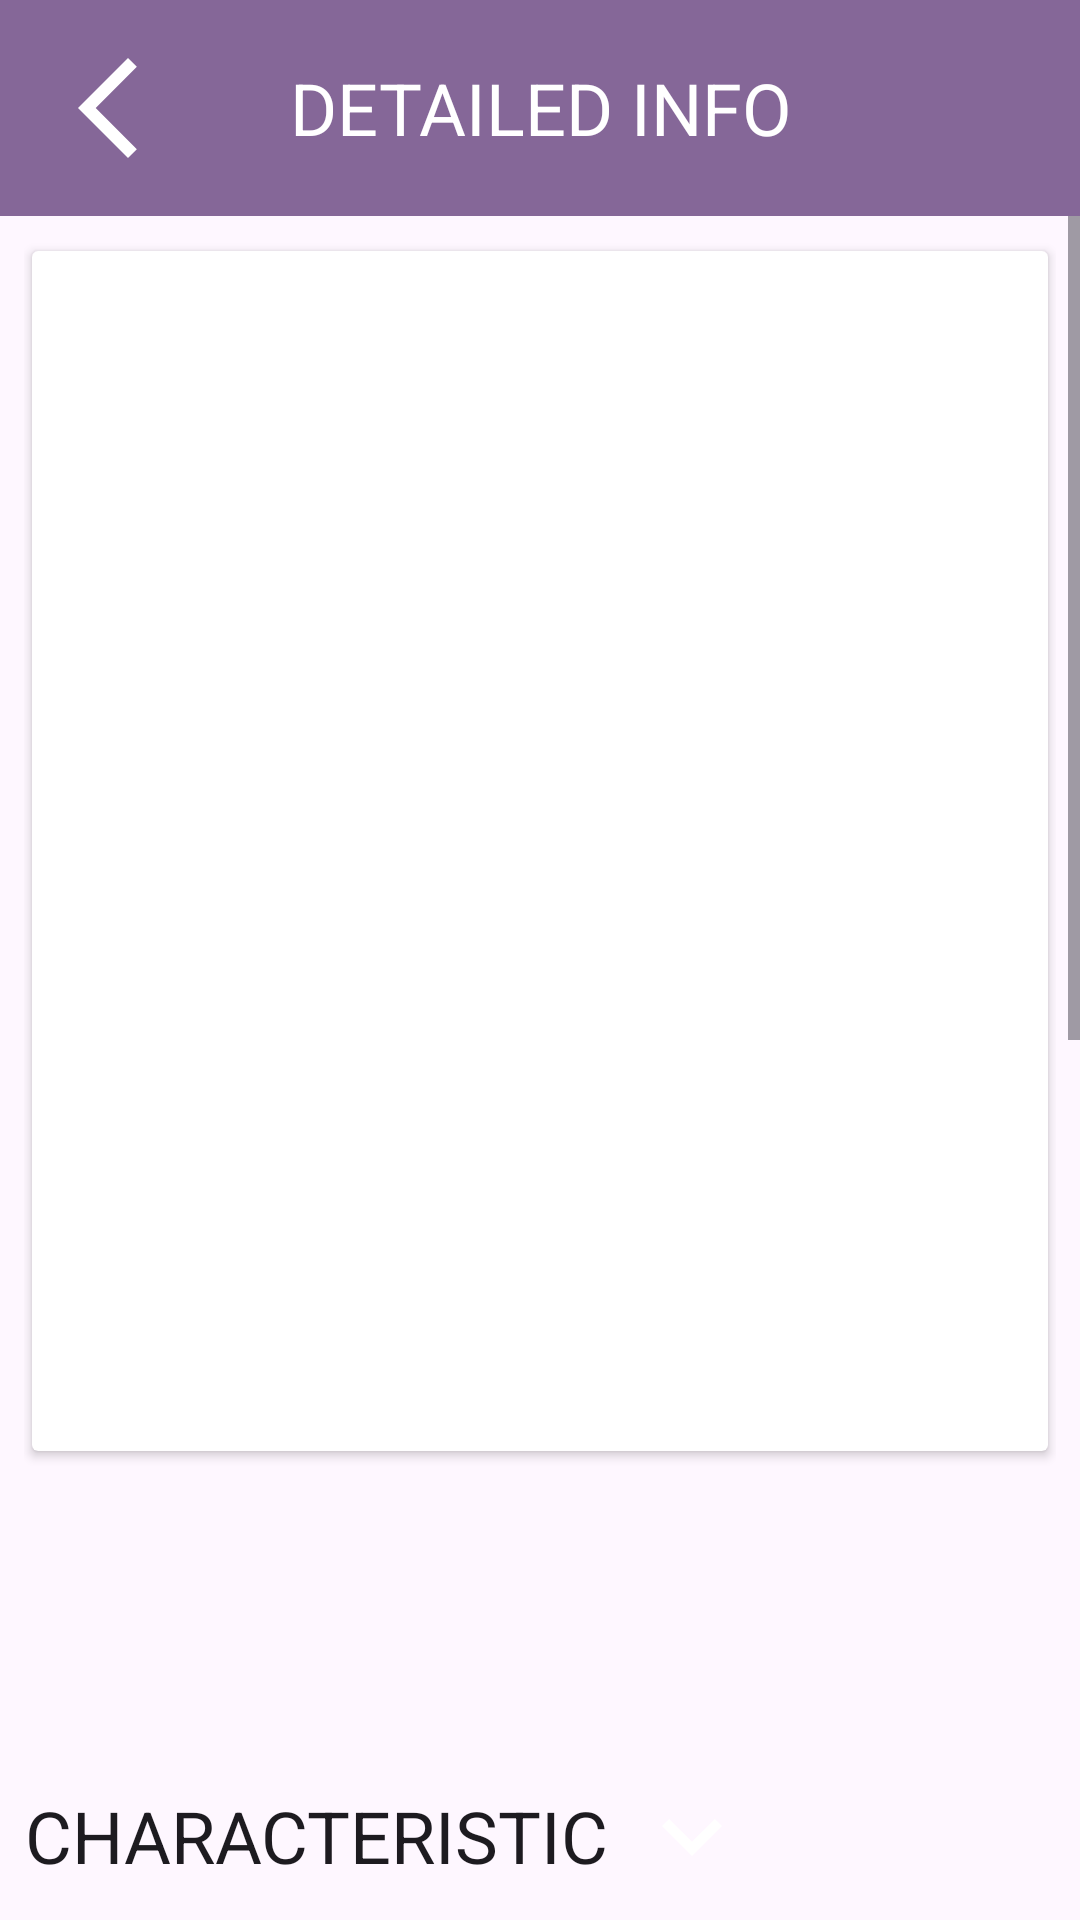

Icon click points for this 1080 × 1920 phone screenshot, format [x,y]:
Назад: [107,108]
